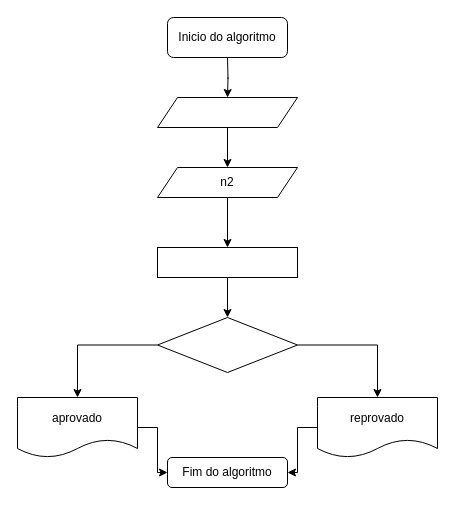
Some shapes in this 455 by 505 pixel diagram are drawn without their labels. Each missing label, with the centre of its shape:
media >=5: point (227, 344)
media= (n1 + n2)/2: point (227, 262)
n1: point (227, 112)
